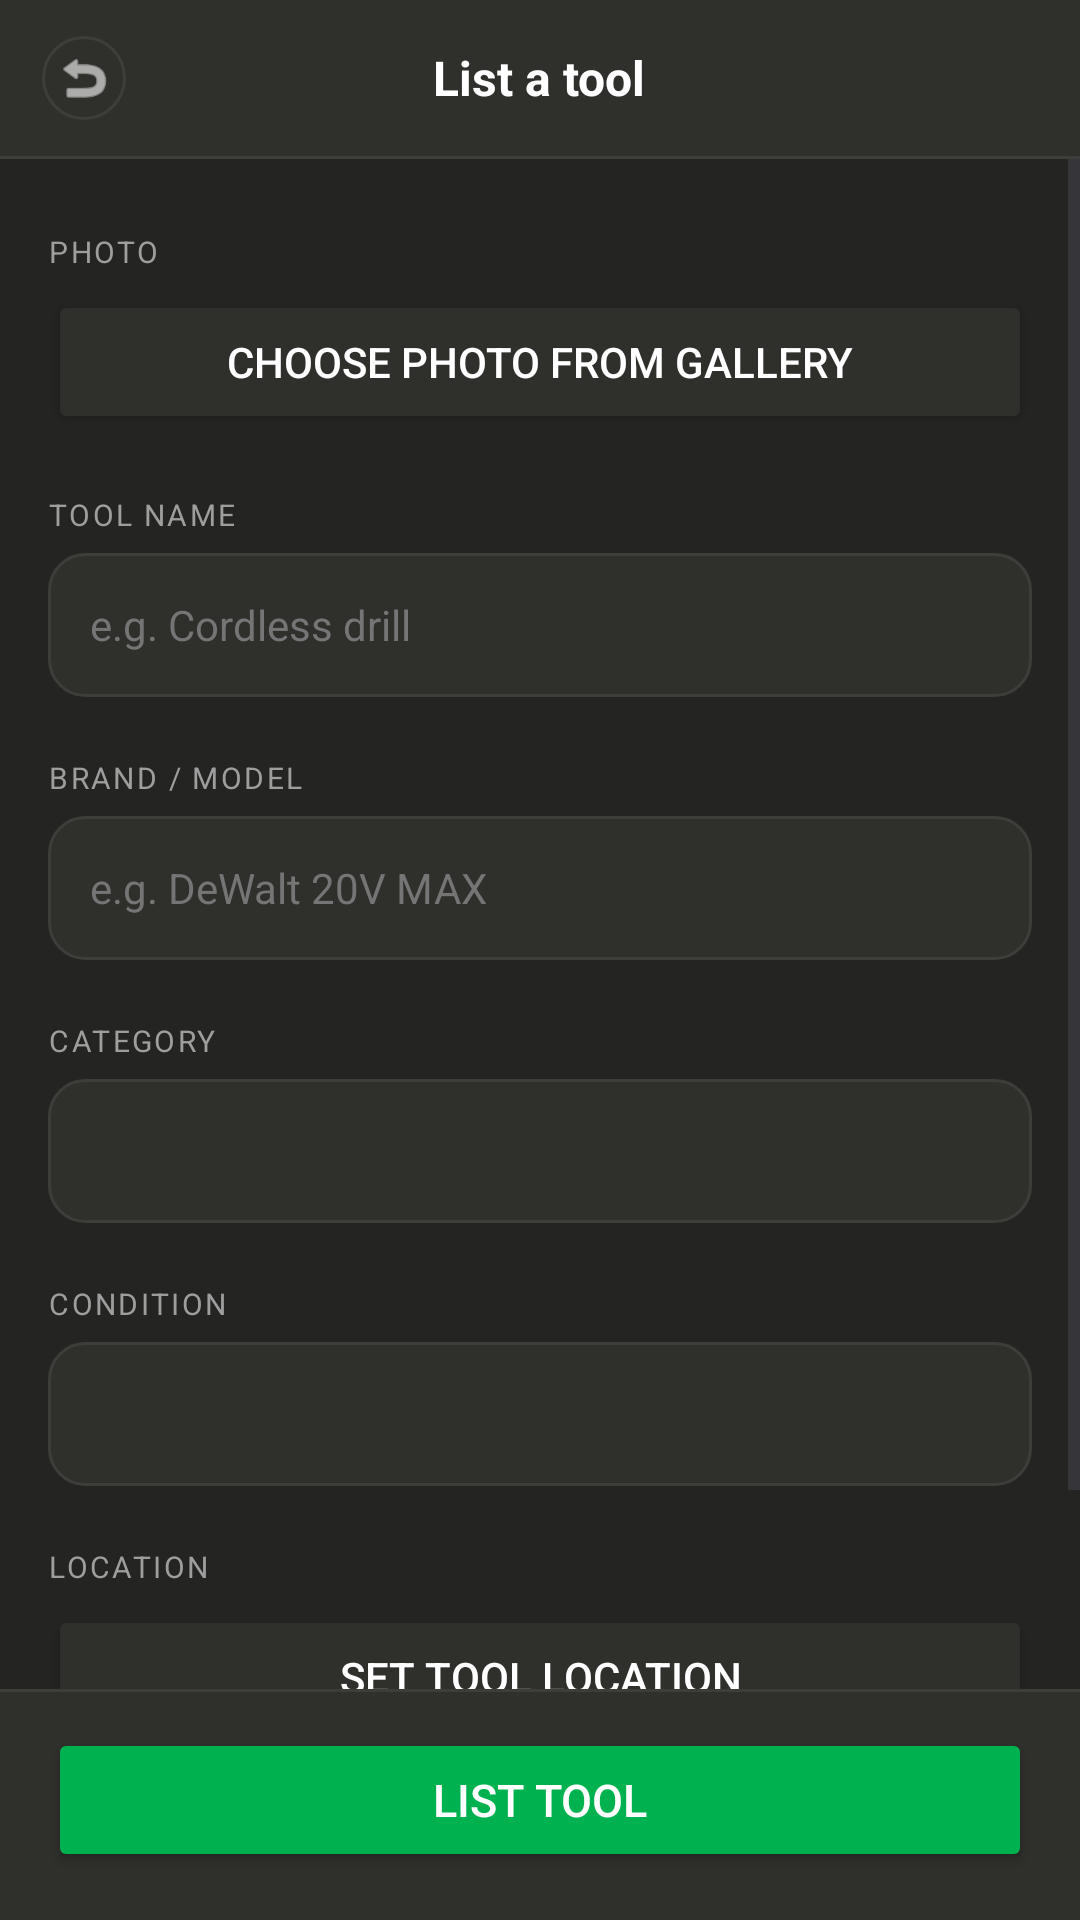

Screen size 1080*1920. Icon name, then its box in pixels as [x1,y1,x2,y2]:
Back: [63,59,106,98]
